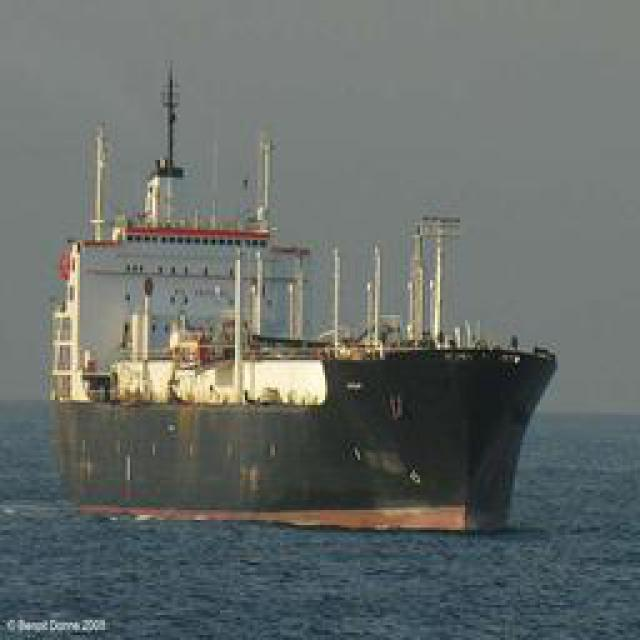Ship: (46, 259, 559, 532)
